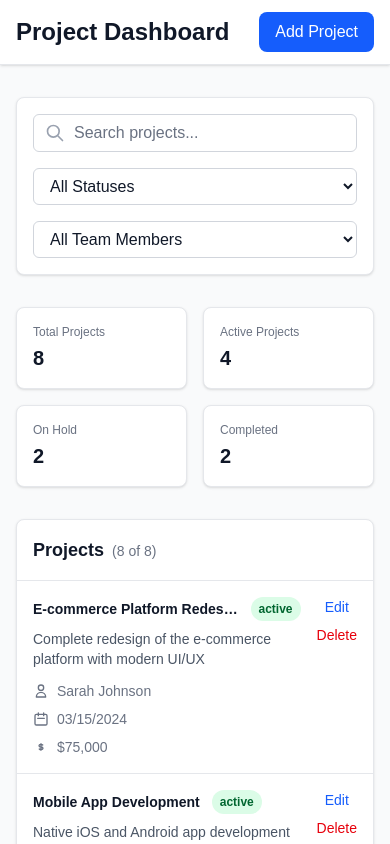
Test: Dashboard Component › Editing Existing Project › should open edit modal with pre-populated data
The image size is (390, 844).
Note: Click Edit button for first project
Click the button "Edit" in the row of "E-commerce Platform Redesign": (337, 607) top-left (316, 597), bottom-right (357, 617)
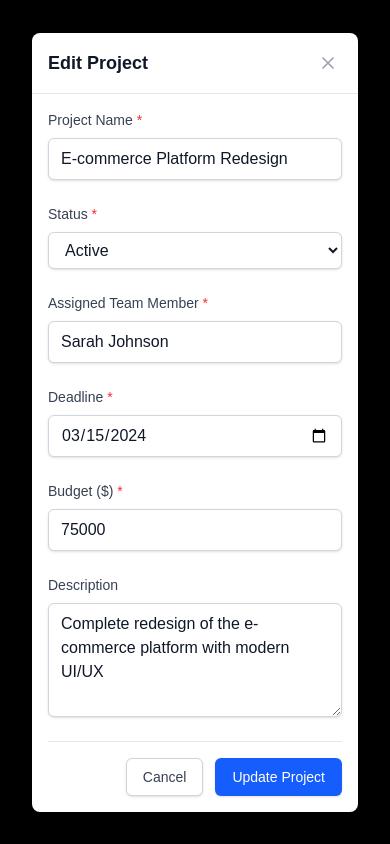
Result: the heading "Edit Project" is shown at top-left (48, 48), bottom-right (148, 76)
Result: the field showing "E-commerce Platform Redesign" is shown at top-left (48, 138), bottom-right (342, 180)
Result: the field showing "Sarah Johnson" is shown at top-left (48, 320), bottom-right (342, 362)
